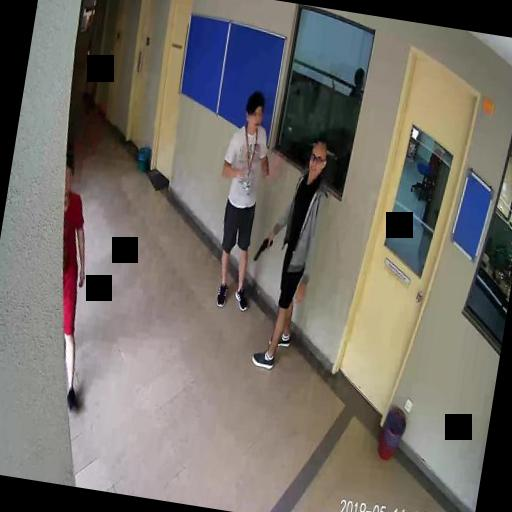Handgun: (252, 234, 272, 260)
